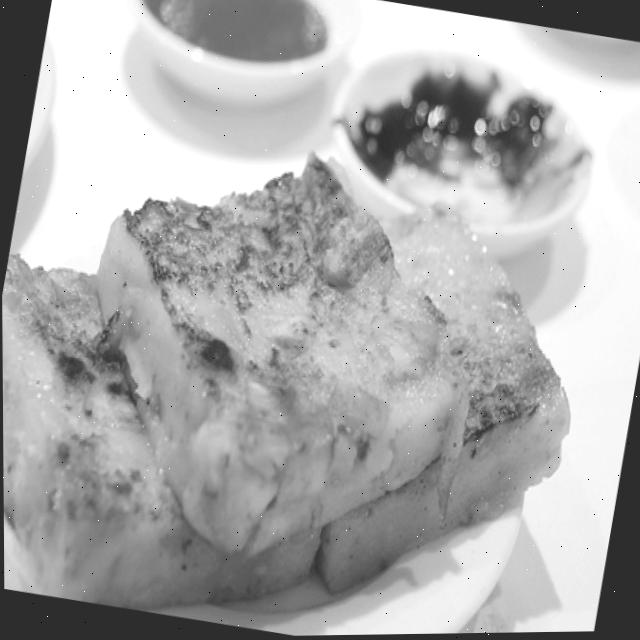蛋糕甜品: (0, 78, 621, 640)
